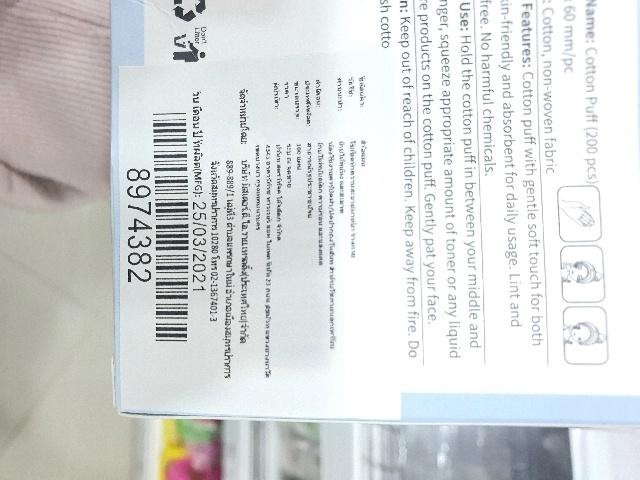Barcode: (124, 109, 194, 348)
